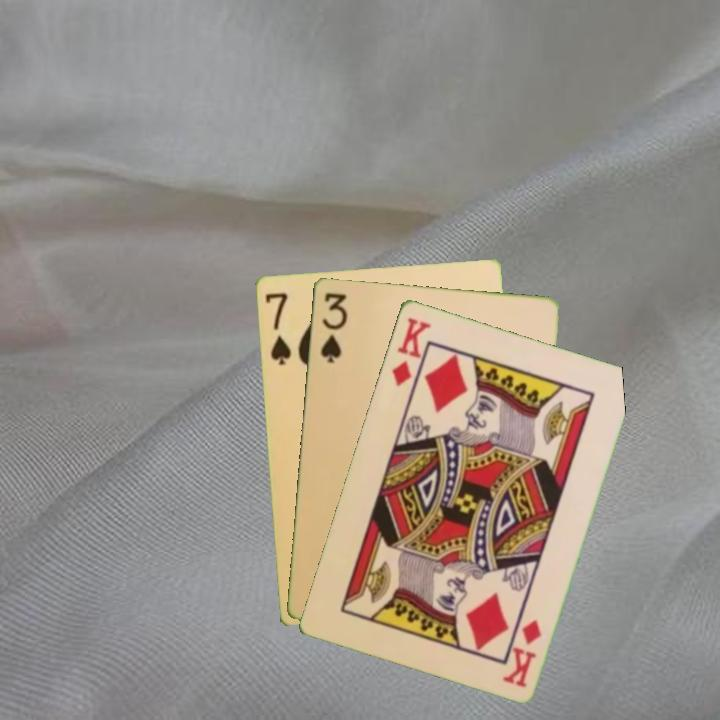3s: (316, 289, 349, 365)
7s: (261, 289, 294, 367)
Kd: (388, 313, 434, 389), (500, 615, 545, 690)
